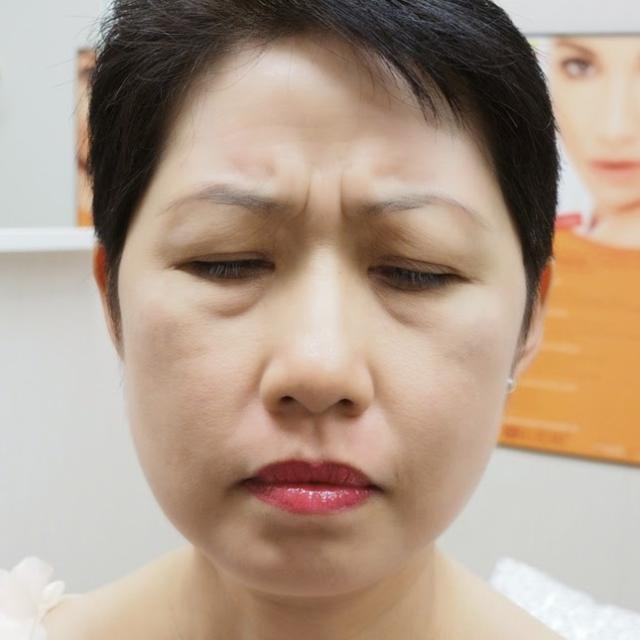Depress: (114, 31, 528, 609)
